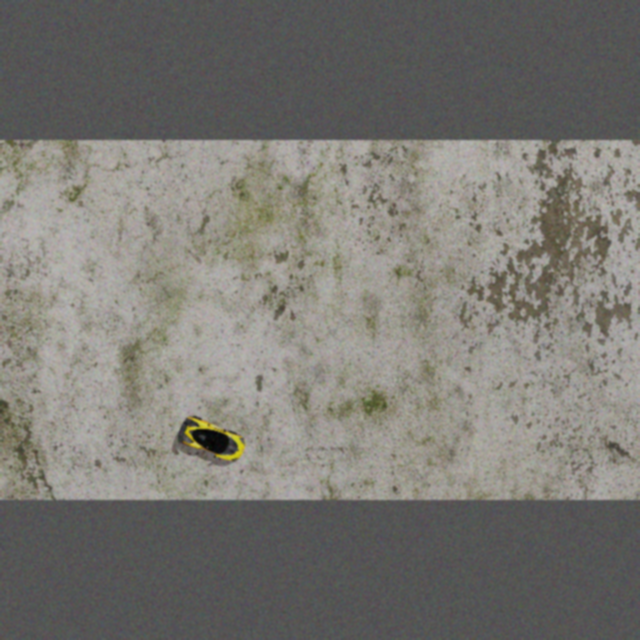car: (174, 412, 250, 468)
